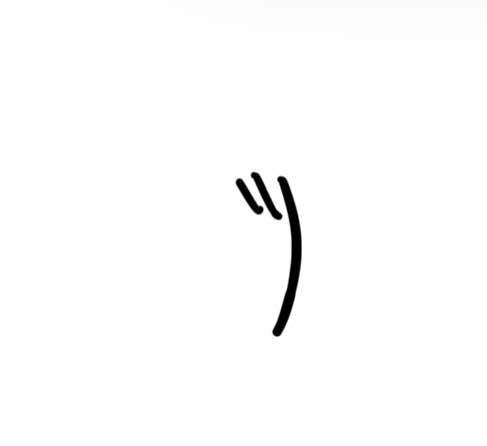tsu: (213, 165, 305, 344)
